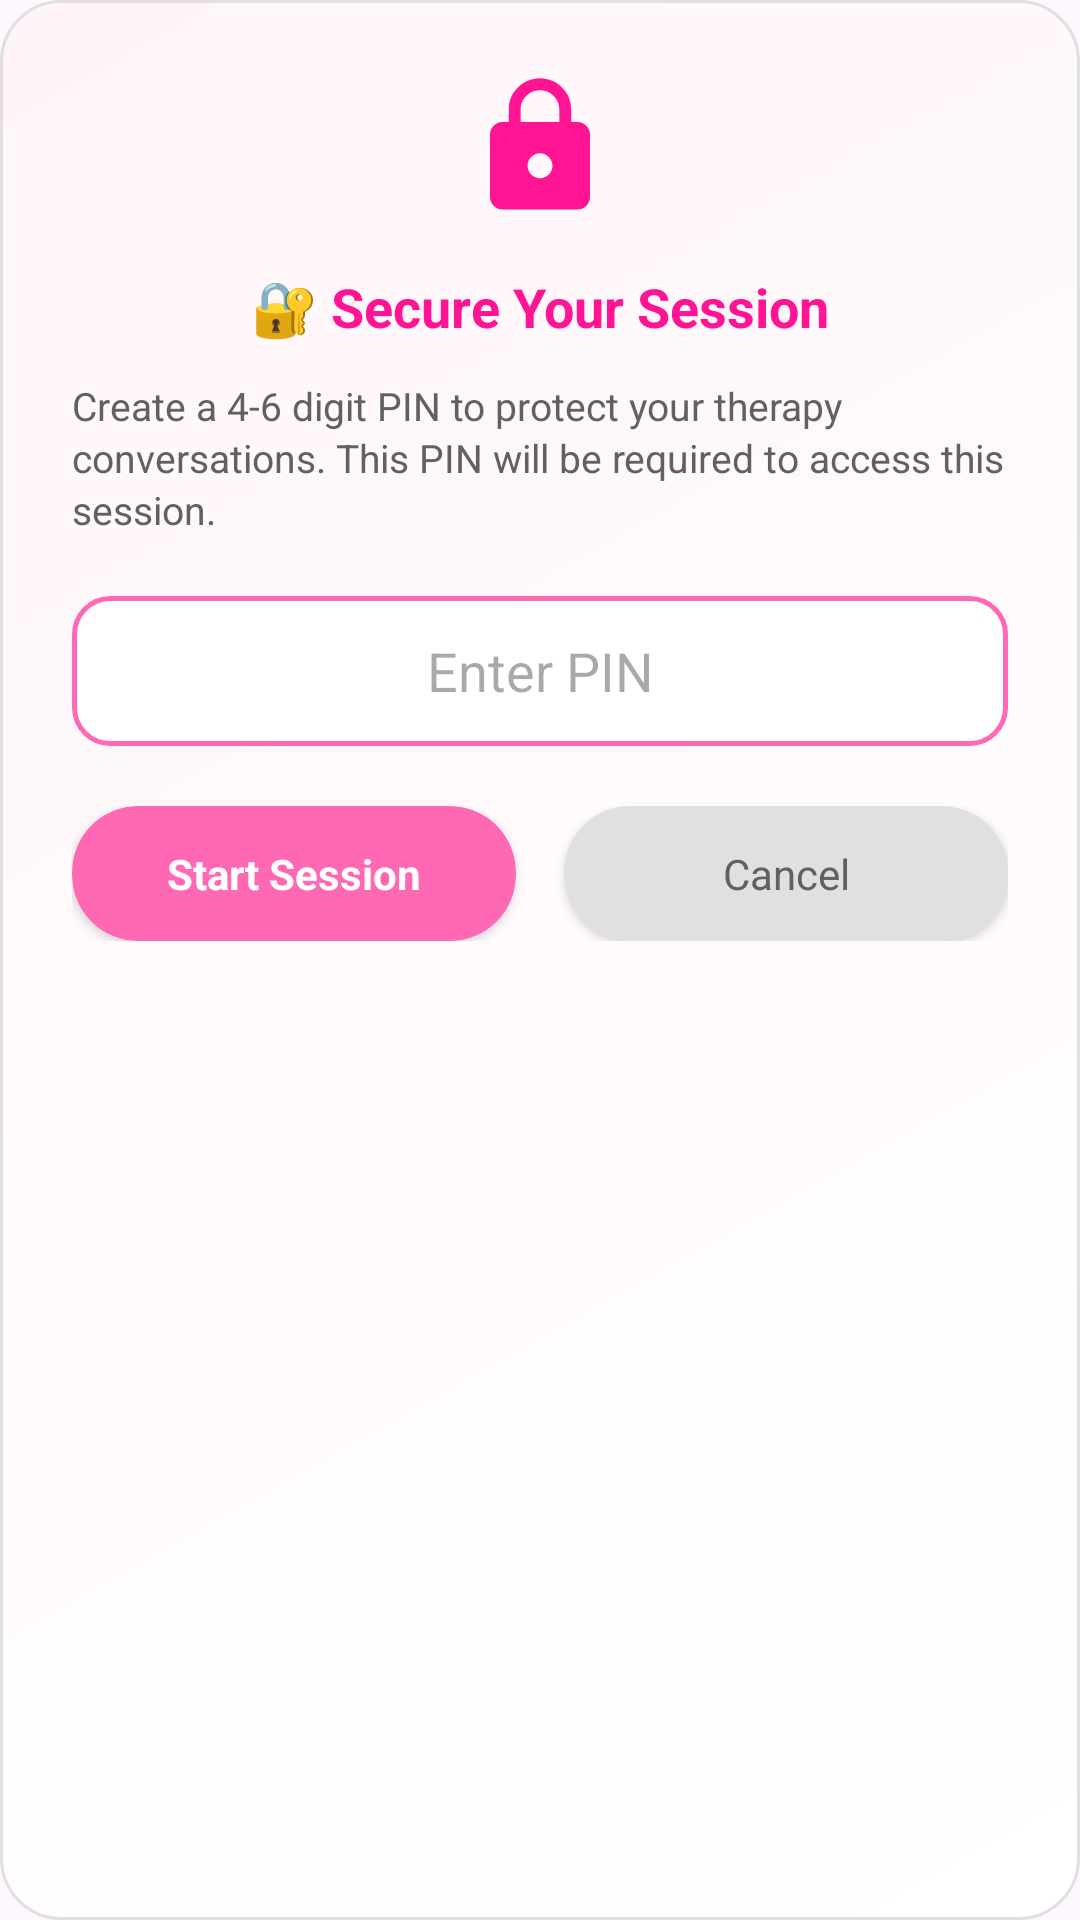

Icon click points for this 1080w x 1920h phone screenshot, format (x,y):
lock: (540,144)
